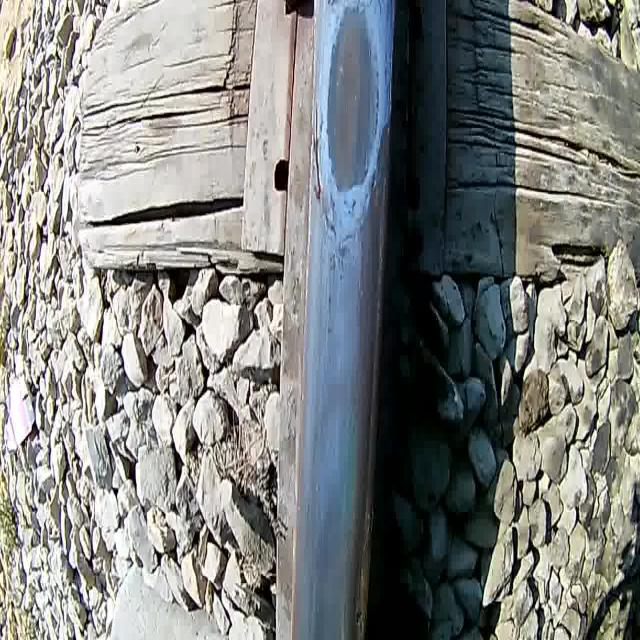Cracks: (336, 108, 389, 256), (313, 96, 338, 253)
Squats: (320, 2, 386, 200)
